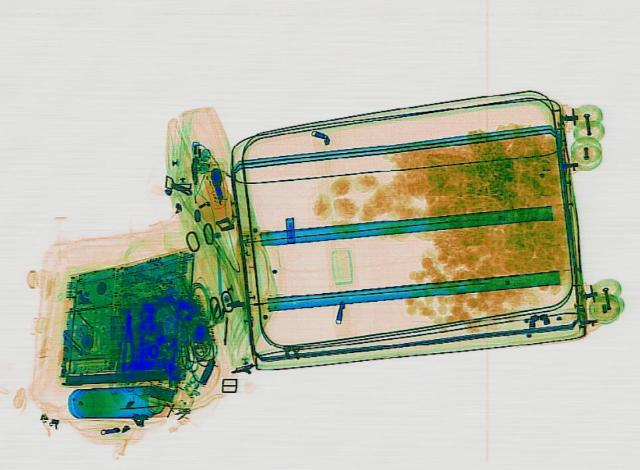Pliers: (119, 307, 135, 368)
